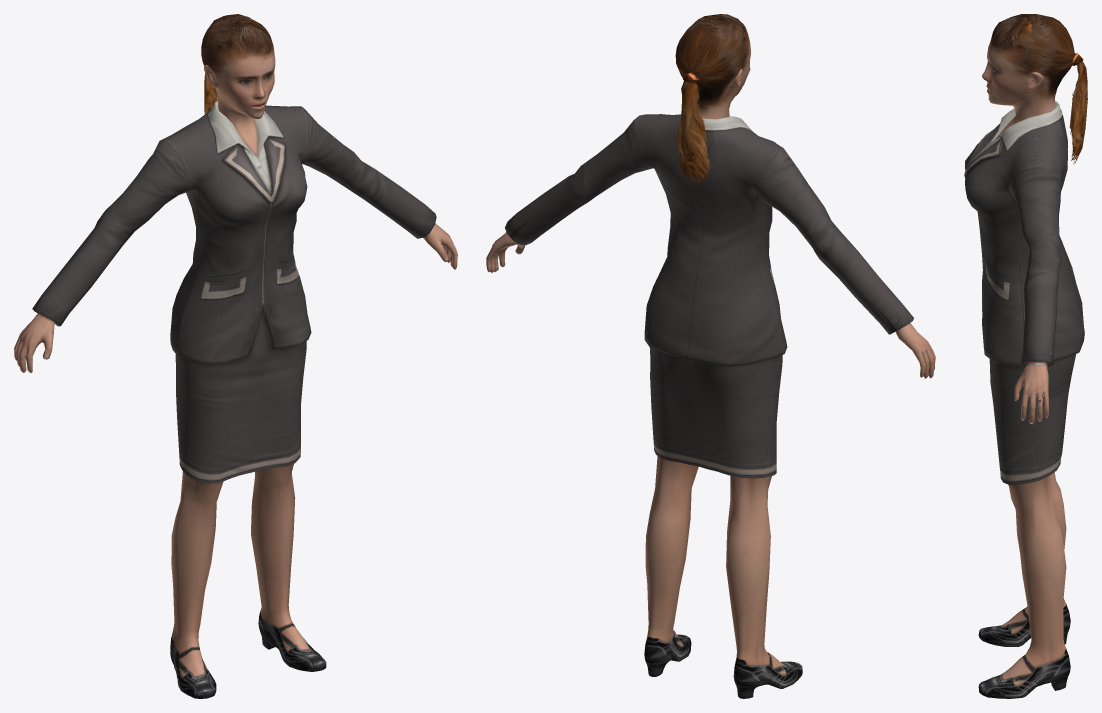
The model's file is business05_f.fbx.
3 renders of one model, left to right at view 1: azimuth 30°, elevation 25°; view 2: azimuth 150°, elevation 25°; view 3: azimuth 270°, elevation 25°, orthographic.
Visible parts, largest first — view 1: business05_f_highpoly; view 2: business05_f_highpoly; view 3: business05_f_highpoly.
Boxes of the visible parts, box(x1,y1,x2,y2) form: business05_f_highpoly: box(14, 14, 457, 698); business05_f_highpoly: box(486, 14, 935, 698); business05_f_highpoly: box(964, 14, 1087, 698).
Size of the model in its own units: 121 by 171 by 29.6.
